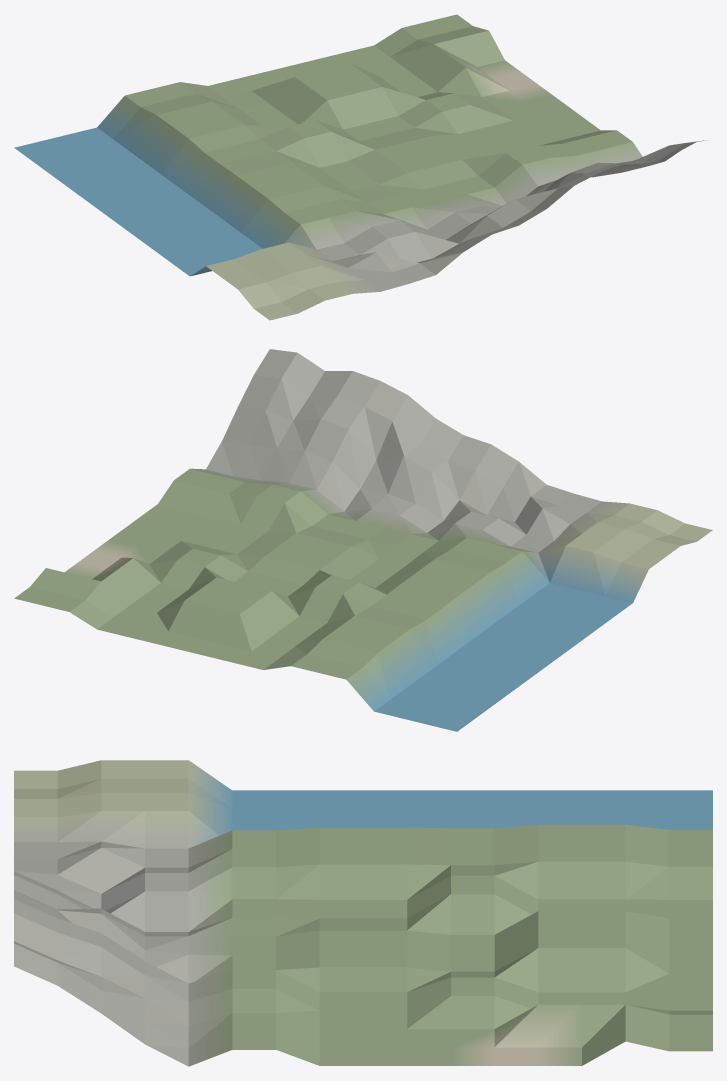
3 views of the same model, one above another, from view 1: azimuth 30°, elevation 25°; view 2: azimuth 150°, elevation 25°; view 3: azimuth 270°, elevation 25° (orthographic). The views are drawn at different scales.
Bounding box in the file's own units: 32 × 6.26 × 32.
